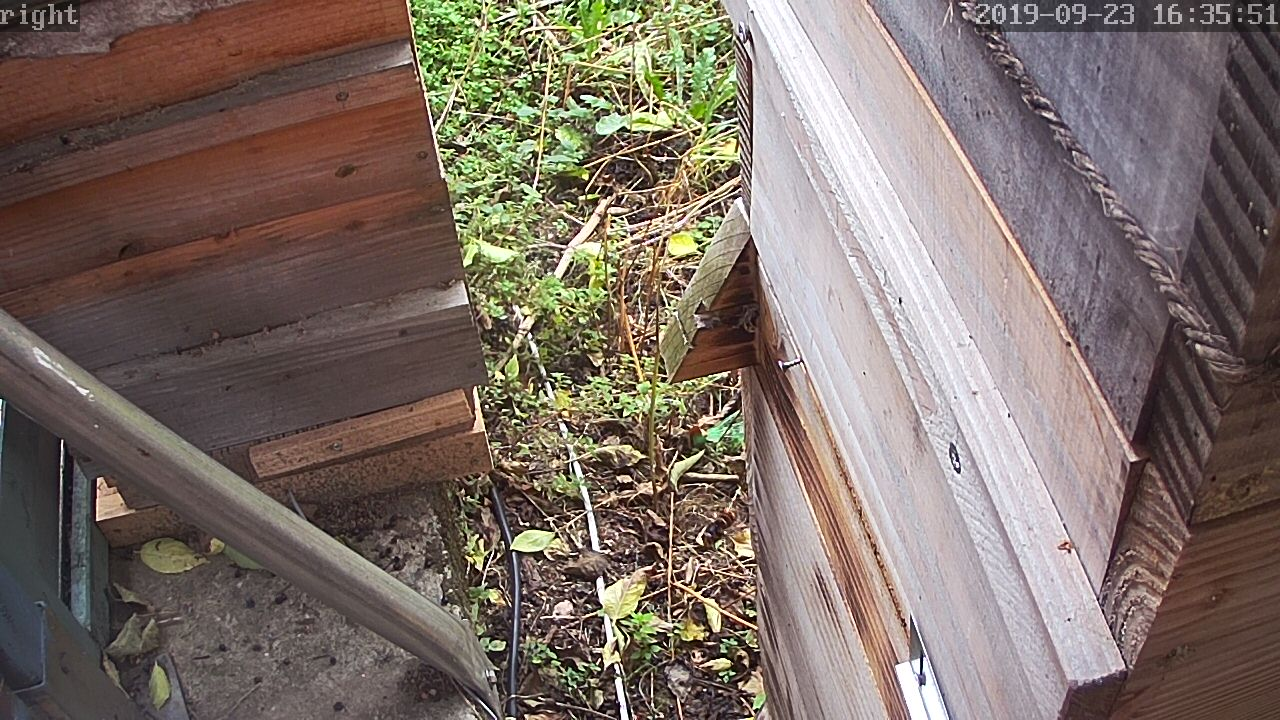hornet: (706, 490, 744, 548), (594, 414, 645, 451)
